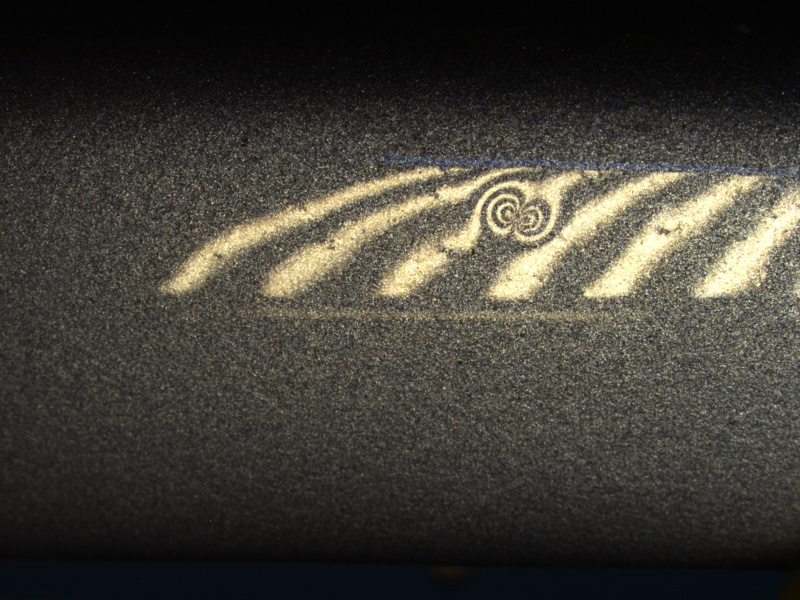bad: (474, 176, 572, 253)
